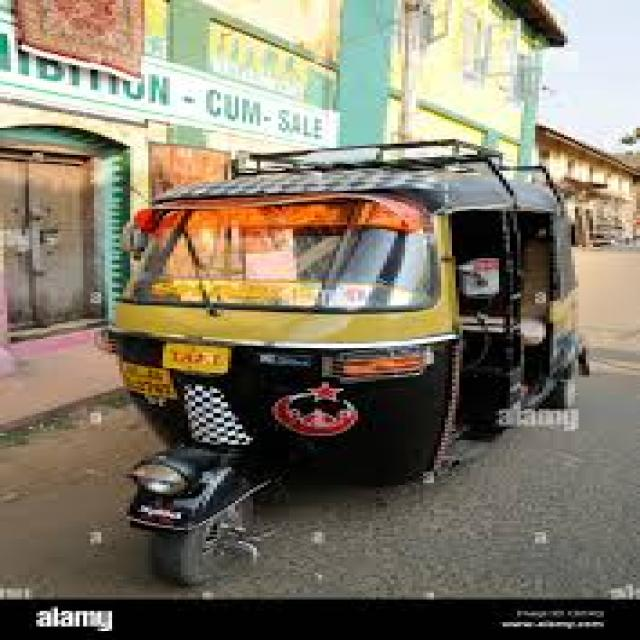Vehicles: (95, 125, 592, 615)
